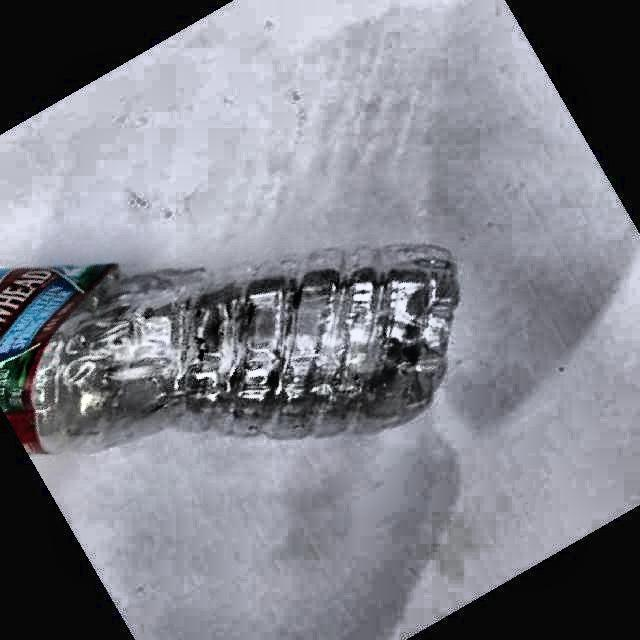plastic: (0, 245, 459, 452)
